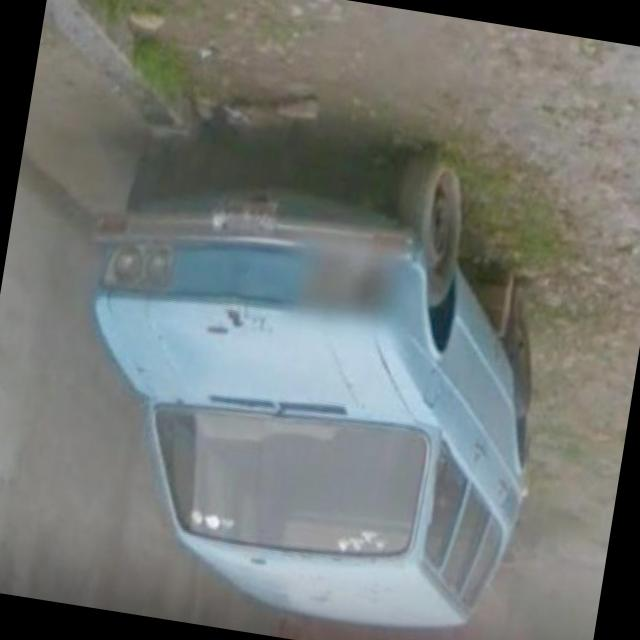car: (45, 118, 572, 640)
